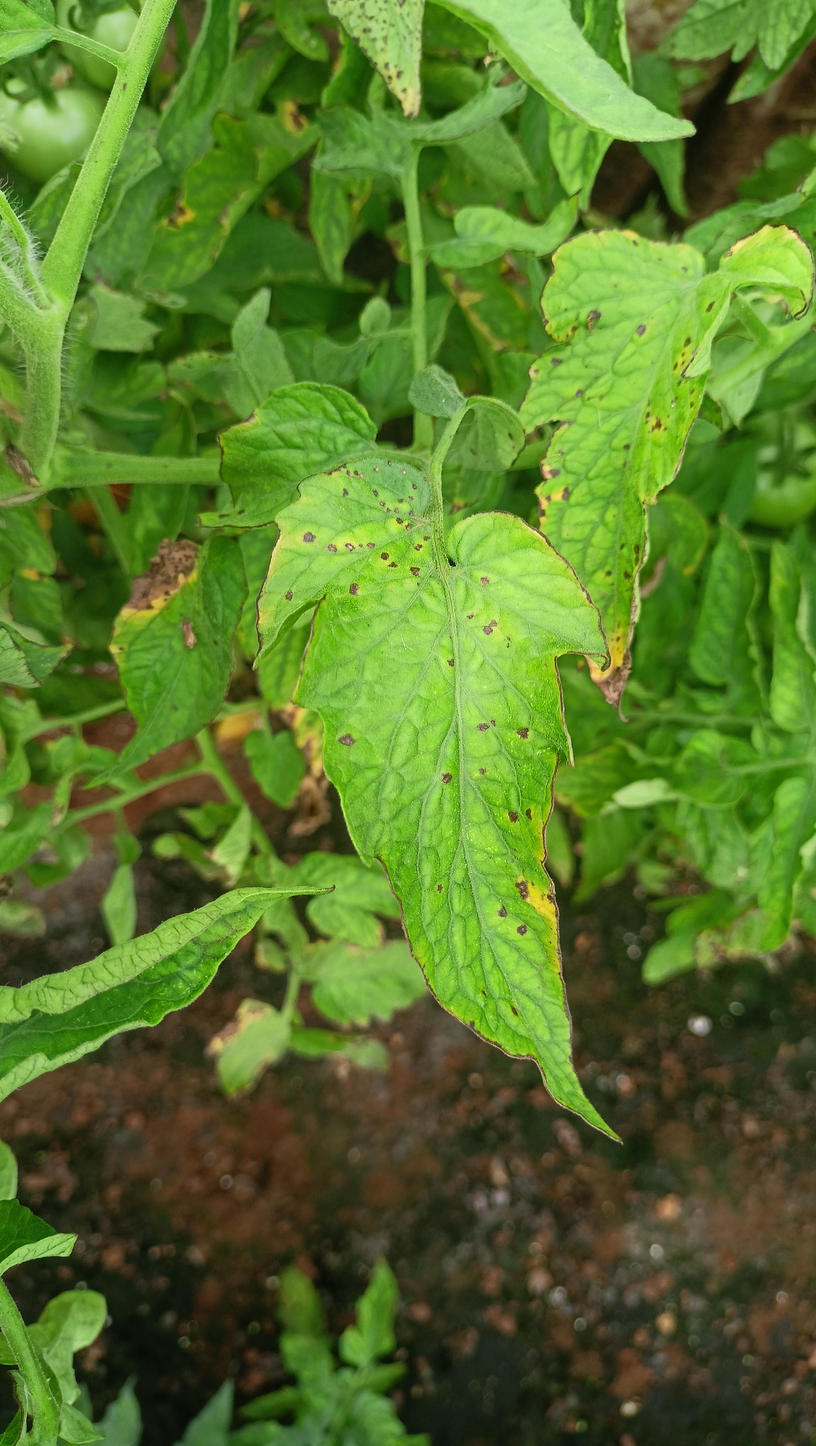Early Blight: (248, 443, 632, 1145), (514, 224, 744, 722)
